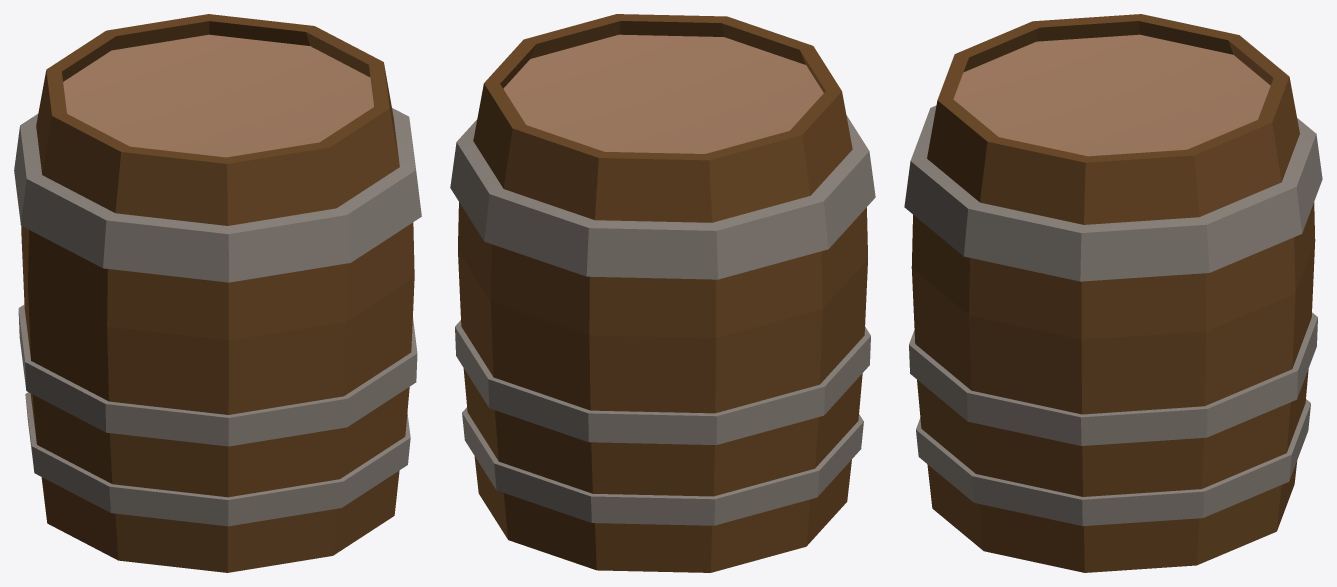
Rendered from mesh_Barrel.fbx.
3 views of the same model, side by side, from view 1: azimuth 30°, elevation 25°; view 2: azimuth 150°, elevation 25°; view 3: azimuth 270°, elevation 25° (orthographic).
Visible parts, largest first — view 1: Barrel1; view 2: Barrel1; view 3: Barrel1.
Part boxes in pixels (bbox=[...]): Barrel1: bbox=[14, 14, 421, 572]; Barrel1: bbox=[450, 14, 875, 572]; Barrel1: bbox=[904, 14, 1322, 572].
Bounding box in the file's own units: 112 × 120 × 112.
Materials: 1 (1 with a texture image).
